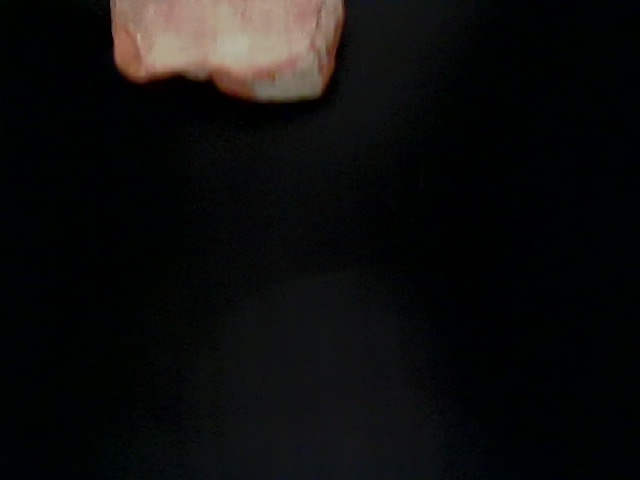KHSLJ: (35, 118, 346, 442)
